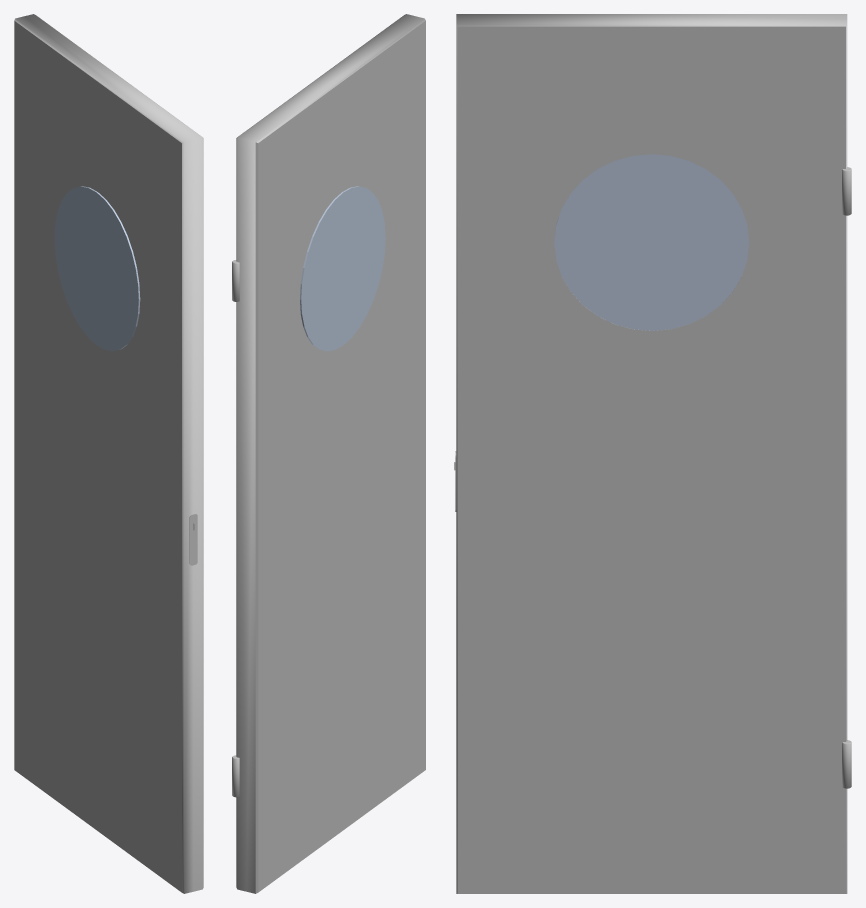
The model's file is Door.fbx.
The picture shows the model from 3 angles, left to right: view 1: azimuth 30°, elevation 25°; view 2: azimuth 150°, elevation 25°; view 3: azimuth 270°, elevation 25°; orthographic projection. The views are drawn at different scales.
Visible parts, largest first — view 1: Door; view 2: Door; view 3: Door.
Part boxes in pixels (x1=…): Door: x1=14, y1=14, x2=203, y2=893; Door: x1=232, y1=14, x2=425, y2=893; Door: x1=454, y1=14, x2=851, y2=893.
Size of the model in its own units: 7.16 by 195 by 80.31.
